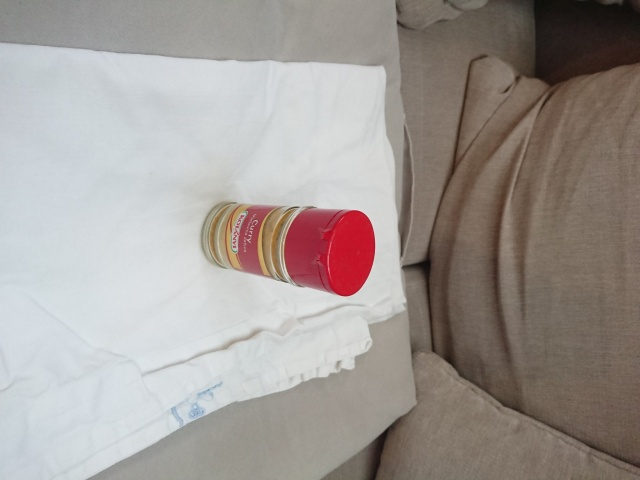Kotanyi Curry Spices Mix 70g: (199, 198, 377, 299)
